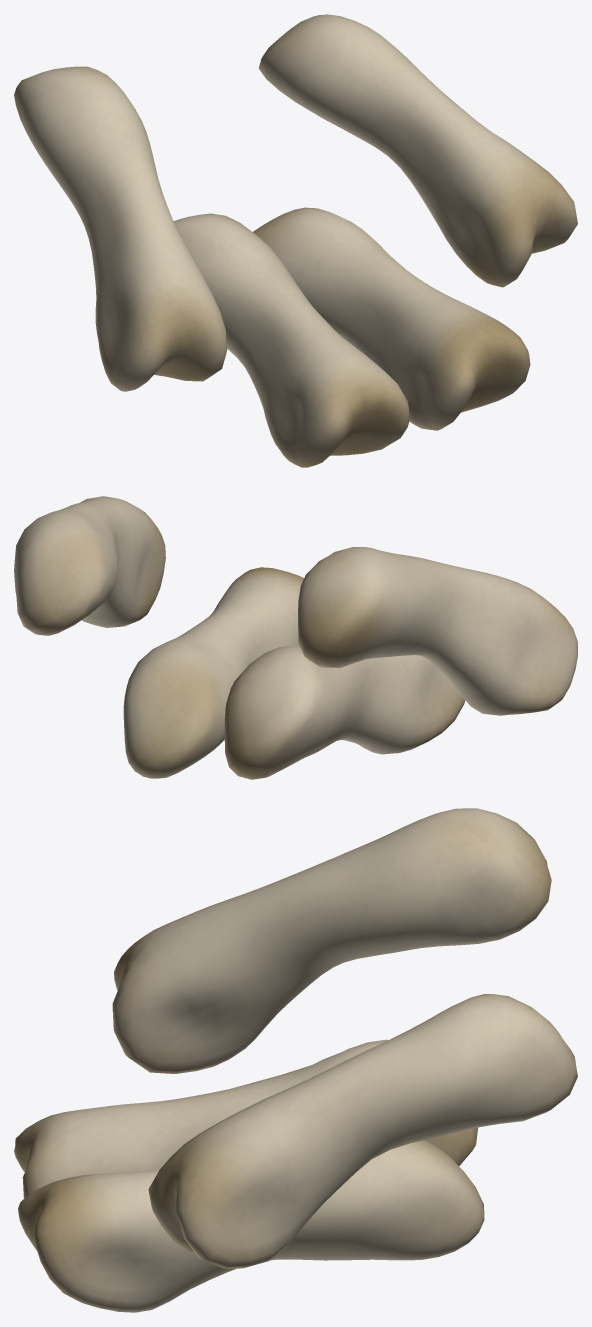
File: BL 1st Phalanx.fbx
3 renders of one model, top to bottom at view 1: azimuth 30°, elevation 25°; view 2: azimuth 150°, elevation 25°; view 3: azimuth 270°, elevation 25°, orthographic. The views are drawn at different scales.
Visible parts, largest first — view 1: BL 1st Phalanx; view 2: BL 1st Phalanx; view 3: BL 1st Phalanx.
Part boxes in pixels (bbox=[...]): BL 1st Phalanx: bbox=[14, 14, 577, 467]; BL 1st Phalanx: bbox=[14, 496, 577, 779]; BL 1st Phalanx: bbox=[14, 808, 577, 1312].
Size of the model in its own units: 6.82 by 4.28 by 5.9.
